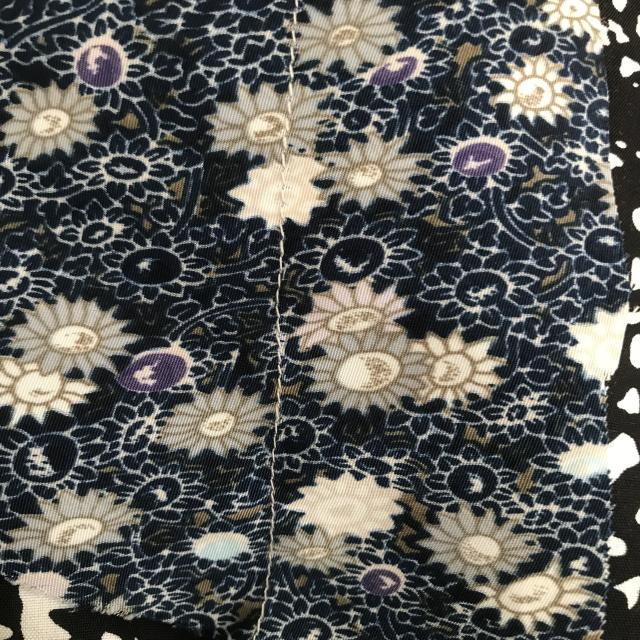good: (264, 250, 292, 432), (254, 466, 286, 534)
